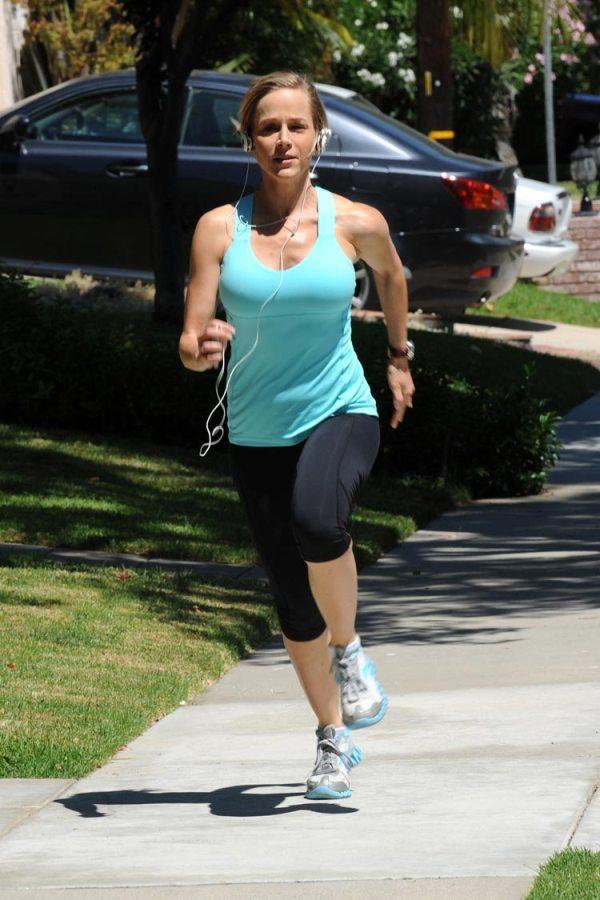person: (178, 68, 416, 807)
